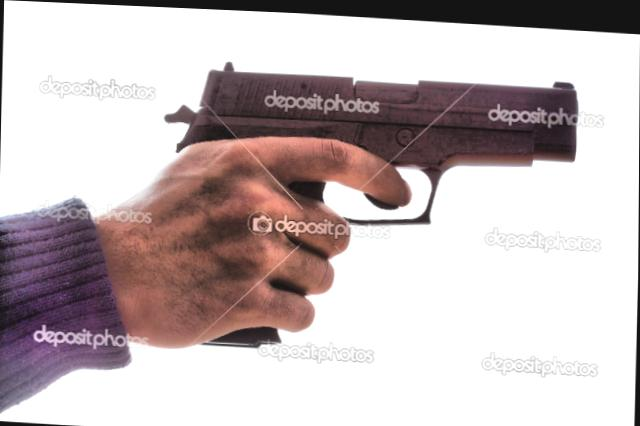pistol: (155, 56, 595, 374)
